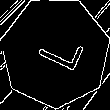L_NW: (27, 27, 84, 77)
